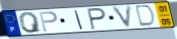D: (135, 4, 157, 28)
I: (74, 10, 85, 31)
P: (86, 7, 108, 31), (38, 11, 59, 33)
Q: (18, 11, 44, 34)
V: (110, 4, 134, 30)
